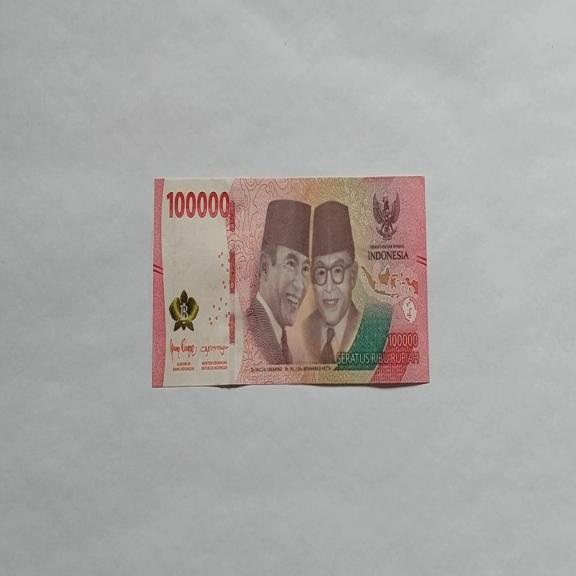Kertas: (152, 174, 430, 388), (166, 188, 230, 220)
